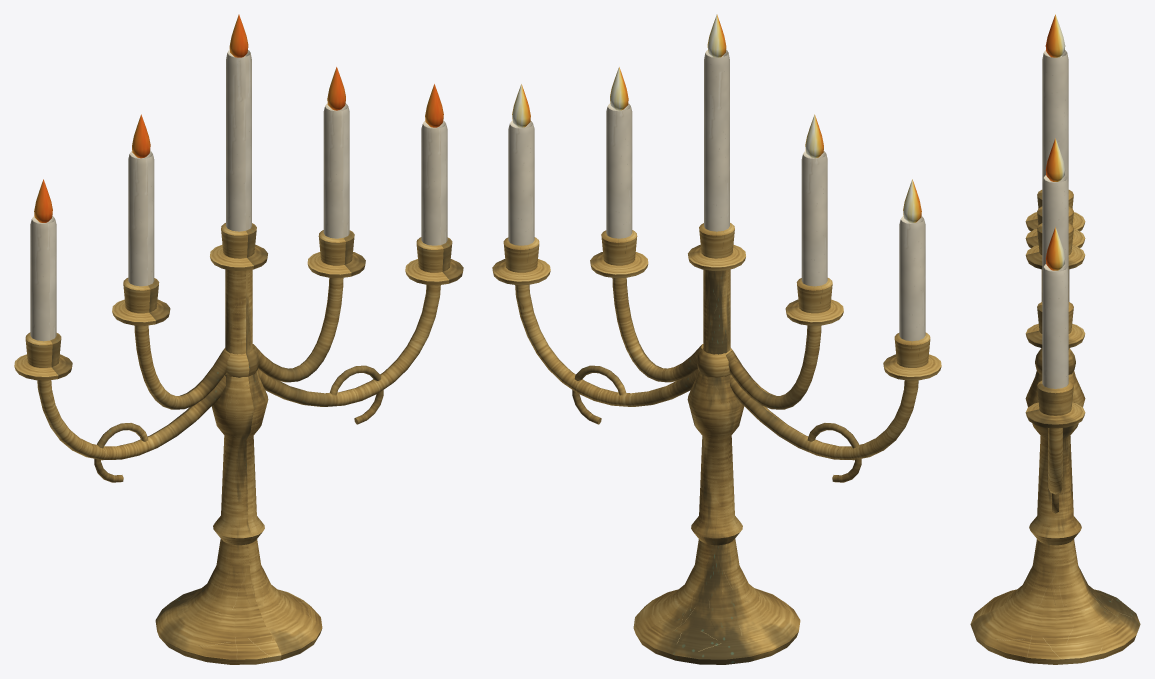
Rendered from lib_candelabra.obj.
The picture shows the model from 3 angles, left to right: view 1: azimuth 30°, elevation 25°; view 2: azimuth 150°, elevation 25°; view 3: azimuth 270°, elevation 25°; orthographic projection.
Parts seen in each view (by area): view 1: lib_candelabra_brass, lib_candelabra_wax, lib_candelabra_flame_glow; view 2: lib_candelabra_brass, lib_candelabra_wax, lib_candelabra_flame_glow; view 3: lib_candelabra_brass, lib_candelabra_wax, lib_candelabra_flame_glow.
Boxes of the visible parts, bbox=[...] form: lib_candelabra_brass: bbox=[14, 223, 463, 664]; lib_candelabra_wax: bbox=[30, 50, 447, 341]; lib_candelabra_flame_glow: bbox=[34, 14, 443, 222]; lib_candelabra_brass: bbox=[492, 223, 941, 664]; lib_candelabra_wax: bbox=[508, 50, 925, 341]; lib_candelabra_flame_glow: bbox=[512, 14, 921, 222]; lib_candelabra_brass: bbox=[970, 190, 1140, 664]; lib_candelabra_wax: bbox=[1042, 50, 1068, 388]; lib_candelabra_flame_glow: bbox=[1045, 14, 1065, 270].
Size of the model in its own units: 0.45 by 0.6 by 0.15.
Materials: 3 (3 with a texture image).
